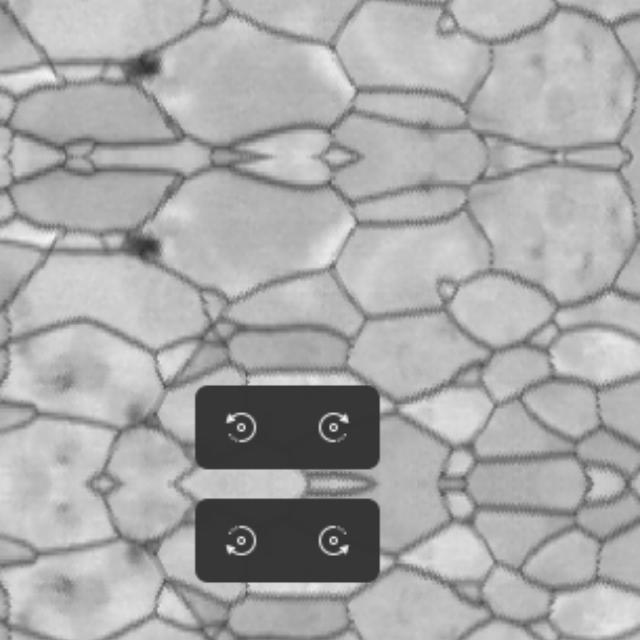good_void: (26, 562, 113, 612), (26, 355, 113, 404), (115, 223, 170, 277), (115, 35, 170, 89), (113, 394, 170, 439), (113, 528, 170, 572), (412, 164, 450, 200), (412, 112, 450, 148)
